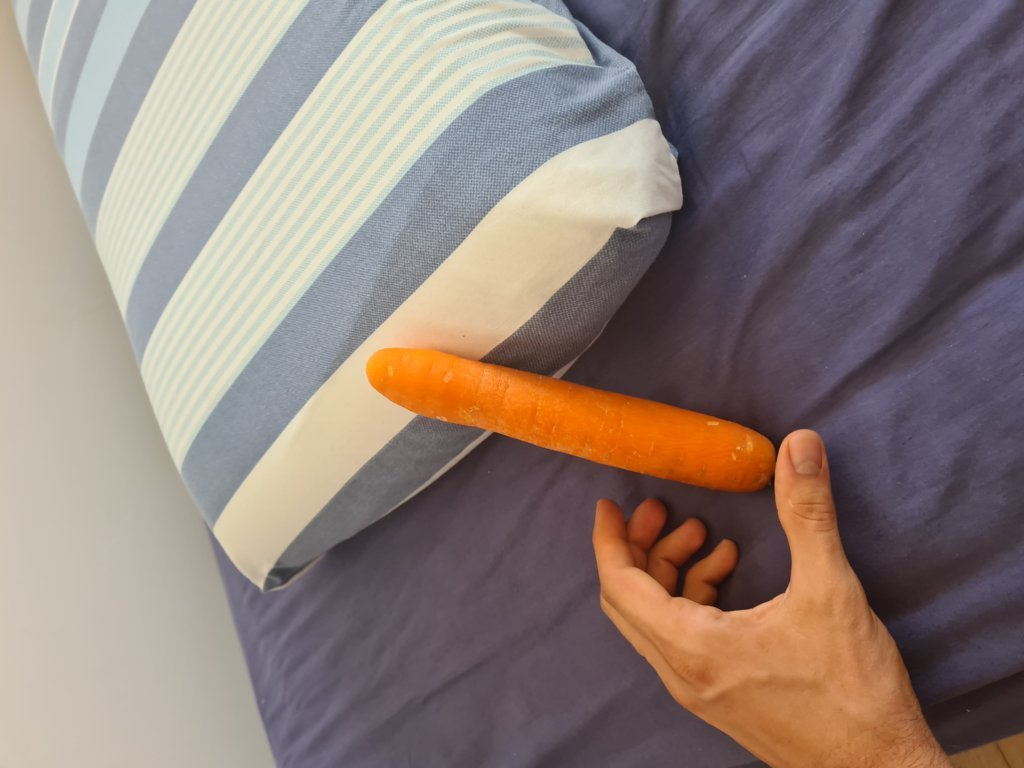carrot: (368, 347, 781, 492)
